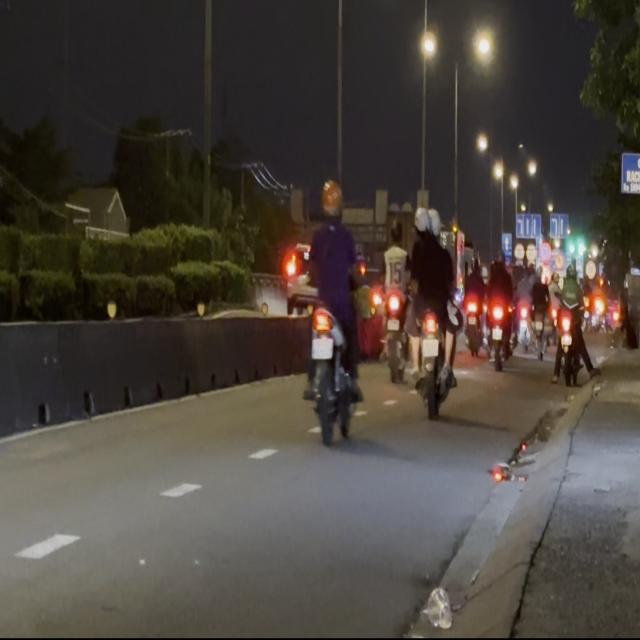helmet: (319, 177, 342, 221)
licenseplate: (301, 176, 364, 443)
nohelmet: (311, 336, 332, 358)
